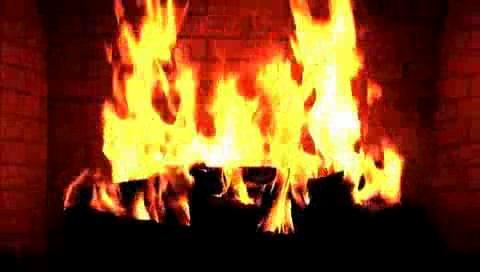fire: (103, 16, 367, 226)
